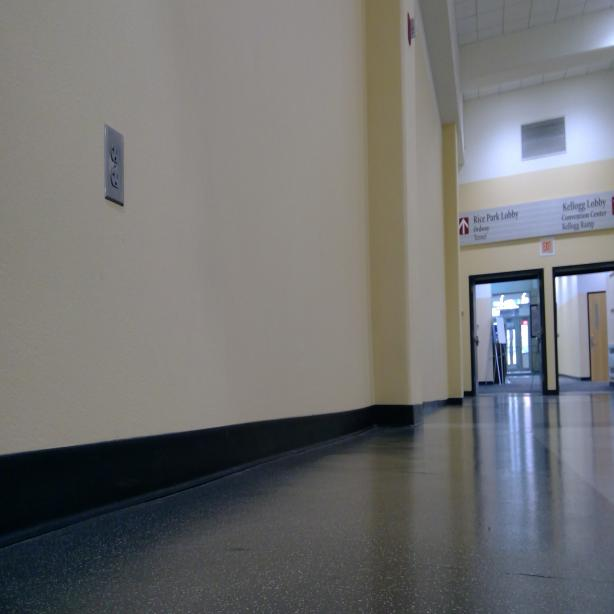typeb: (109, 142, 121, 163), (110, 166, 120, 187)
